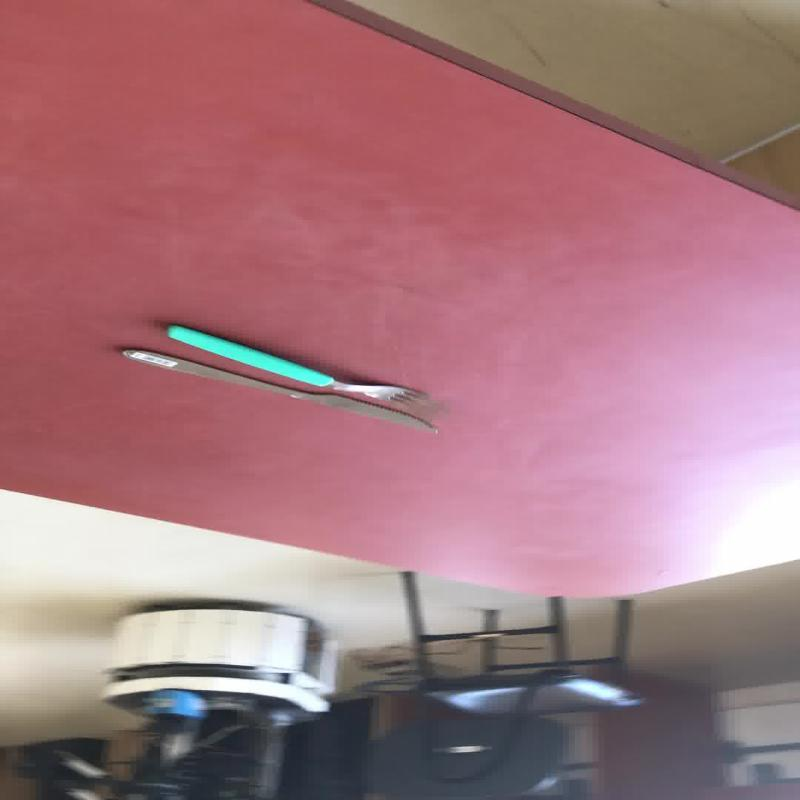fork: (163, 322, 428, 404)
knife: (119, 346, 437, 432)
